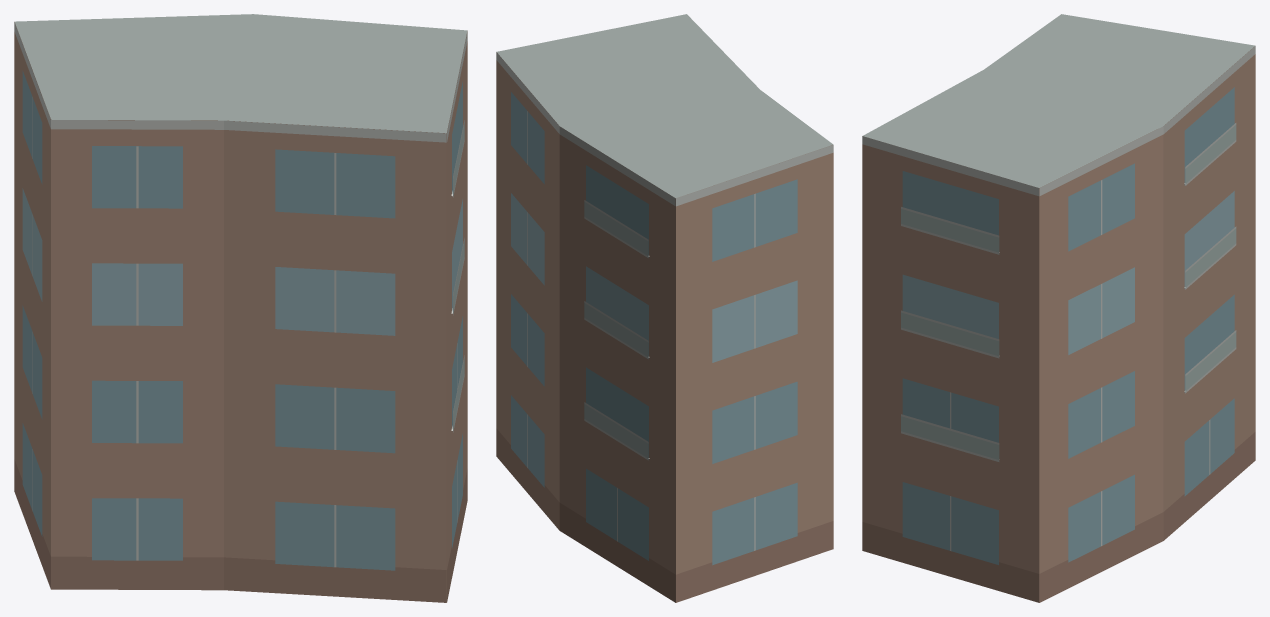
The model's file is survey-upis-32894759.glb.
3 renders of one model, left to right at view 1: azimuth 30°, elevation 25°; view 2: azimuth 150°, elevation 25°; view 3: azimuth 270°, elevation 25°, orthographic. The views are drawn at different scales.
Visible parts, largest first — view 1: survey-upis-32894759.tmp; view 2: survey-upis-32894759.tmp; view 3: survey-upis-32894759.tmp.
Boxes of the visible parts, box(x1,y1,x2,y2) form: survey-upis-32894759.tmp: box(14, 14, 467, 602); survey-upis-32894759.tmp: box(496, 14, 833, 602); survey-upis-32894759.tmp: box(862, 14, 1255, 602).
Bounding box in the file's own units: 10.99 × 12.2 × 10.49.
